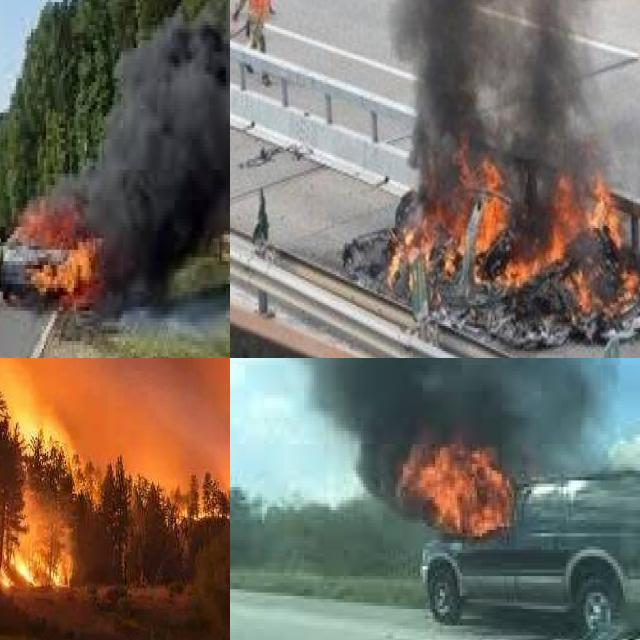fire: (387, 133, 640, 343), (373, 428, 522, 543), (0, 405, 76, 591), (1, 189, 115, 311)
smoke: (299, 0, 617, 197), (89, 0, 230, 307), (230, 358, 600, 467), (0, 358, 230, 460)
